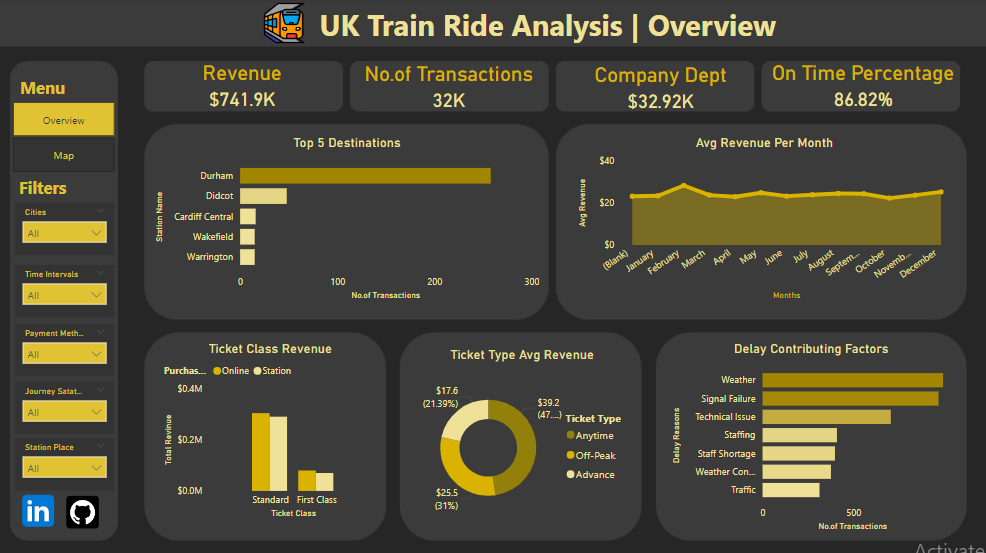

The page's visual inventory and layout, read from the dashboard file:
{"tool":"powerbi","page":{"name":"Overview","canvas":[1280,720],"ordinal":0},"visuals":[{"type":"card","title":"Revenue","fields":{"Values":["Sum(final_edited_data.Price)"]},"box":[188.2,79.6,255.8,67.6],"z":0},{"type":"card","title":"Company Dept","fields":{"Values":["final_edited_data.Company debt"]},"box":[728.7,82,254.6,67.6],"z":1000},{"type":"card","title":"No.of Transactions","fields":{"Values":["final_edited_data.No.of Transaction"]},"box":[456,80.8,254.6,67.6],"z":2000},{"type":"card","title":"On Time Percentage","fields":{"Values":["final_edited_data.On Time Persentage"]},"box":[989.3,79.6,255.8,67.6],"z":3000},{"type":"clusteredColumnChart","title":"Ticket Class Revenue","fields":{"Category":["final_edited_data.Ticket Class"],"Y":["Sum(final_edited_data.Price)"],"Series":["final_edited_data.Purchase Type"]},"box":[209.8,440.8,284.9,232.4],"z":4000},{"type":"areaChart","title":"Avg Revenue Per Month","fields":{"Category":["final_edited_data.Date of Journey.Variation.Date Hierarchy.Month"],"Y":["Avg(final_edited_data.Price)"]},"box":[744.1,175.7,491.8,216.9],"z":5000},{"type":"donutChart","title":"Ticket Type Avg Revenue","fields":{"Category":["final_edited_data.Ticket Type"],"Y":["Avg(final_edited_data.Price)"]},"box":[528.7,449.3,297.6,240.9],"z":6000},{"type":"clusteredBarChart","title":"Top 5 Destinations","fields":{"Category":["final_edited_data.Arrival Station"],"Y":["CountNonNull(final_edited_data.Transaction ID)"]},"box":[198.4,175.7,506,216.9],"z":7000},{"type":"clusteredBarChart","title":"Delay Contributing Factors","fields":{"Y":["final_edited_data.No.of Transactions"],"Category":["final_edited_data.Reason for Delay"]},"box":[866,440.8,369.9,249.4],"z":8000},{"type":"slicer","fields":{"Values":["final_edited_data.Purchase Time Interval"]},"box":[22.9,343.6,127.7,67.2],"z":9000},{"type":"slicer","fields":{"Values":["final_edited_data.Payment Method"]},"box":[22.9,419.2,127.7,67.2],"z":10000},{"type":"slicer","fields":{"Values":["final_edited_data.Journey Status"]},"box":[22.9,494.8,127.7,67.2],"z":11000},{"type":"slicer","fields":{"Values":["final_edited_data.Arrival Station - City"]},"box":[22.9,263,127.7,67.2],"z":12000},{"type":"textbox","box":[22.9,223,127.7,48.7],"z":13000},{"type":"textbox","box":[24.1,94.1,137.5,50.7],"z":14000},{"type":"pageNavigator","box":[20.5,132.7,131.5,91.7],"z":15000},{"type":"image","box":[330.9,0,80.6,62.2],"z":16000},{"type":"slicer","fields":{"Values":["final_edited_data.Departure Station-Place"]},"box":[22.9,567,127.9,67.6],"z":17000},{"type":"image","box":[20.5,626.1,65.1,68.8],"z":18000},{"type":"image","box":[77.2,635.8,65.1,51.9],"z":19000},{"type":"textbox","box":[142.4,2.4,1137.7,79.6],"z":20000}]}

Visuals, with their boxes on the page's 1280x720 design canvas (x1, y1, x2, y2). These are canvas units, not pixel positions in the 986x553 screenshot, which may show the page scaled, cropped or inside an application window:
"Revenue" card: [left=188, top=80, right=444, bottom=147]
"Company Dept" card: [left=729, top=82, right=983, bottom=150]
"No.of Transactions" card: [left=456, top=81, right=711, bottom=148]
"On Time Percentage" card: [left=989, top=80, right=1245, bottom=147]
"Ticket Class Revenue" clusteredColumnChart: [left=210, top=441, right=495, bottom=673]
"Avg Revenue Per Month" areaChart: [left=744, top=176, right=1236, bottom=393]
"Ticket Type Avg Revenue" donutChart: [left=529, top=449, right=826, bottom=690]
"Top 5 Destinations" clusteredBarChart: [left=198, top=176, right=704, bottom=393]
"Delay Contributing Factors" clusteredBarChart: [left=866, top=441, right=1236, bottom=690]
slicer - final_edited_data.Purchase Time Interval: [left=23, top=344, right=151, bottom=411]
slicer - final_edited_data.Payment Method: [left=23, top=419, right=151, bottom=486]
slicer - final_edited_data.Journey Status: [left=23, top=495, right=151, bottom=562]
slicer - final_edited_data.Arrival Station - City: [left=23, top=263, right=151, bottom=330]
textbox: [left=23, top=223, right=151, bottom=272]
textbox: [left=24, top=94, right=162, bottom=145]
pageNavigator: [left=20, top=133, right=152, bottom=224]
image: [left=331, top=0, right=412, bottom=62]
slicer - final_edited_data.Departure Station-Place: [left=23, top=567, right=151, bottom=635]
image: [left=20, top=626, right=86, bottom=695]
image: [left=77, top=636, right=142, bottom=688]
textbox: [left=142, top=2, right=1280, bottom=82]
